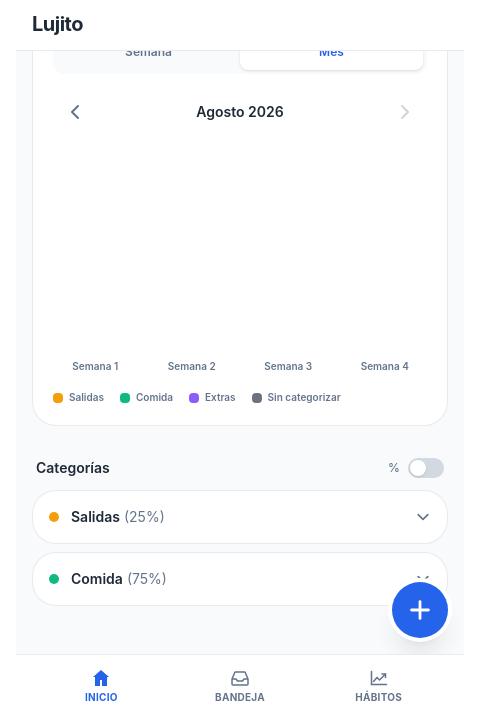
Scenario: PantallaDashboard › expandir una categoría muestra su total y ninguna otra categoría muestra su detalle
(page scrolled)
Click the button with test id "categoria-toggle-Comida" at (97, 578), box [33, 553, 447, 605]
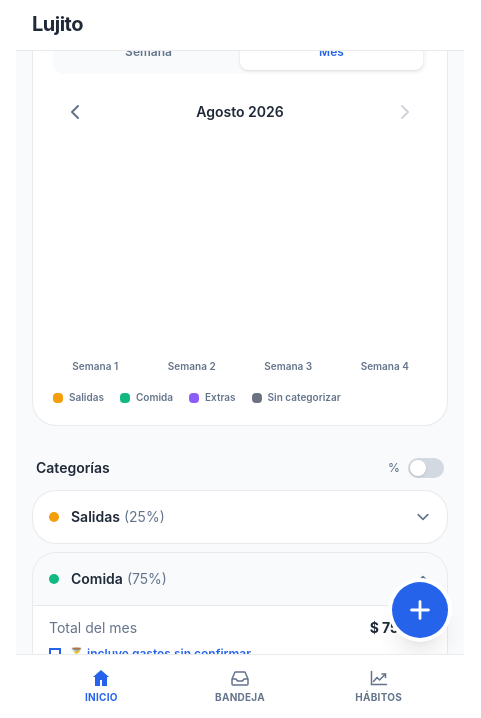
Expected: the text "$ 750,00" is shown, [370, 618, 431, 638]
Expected: the text "⏳ incluye gastos sin confirmar" is shown, [69, 646, 251, 662]
